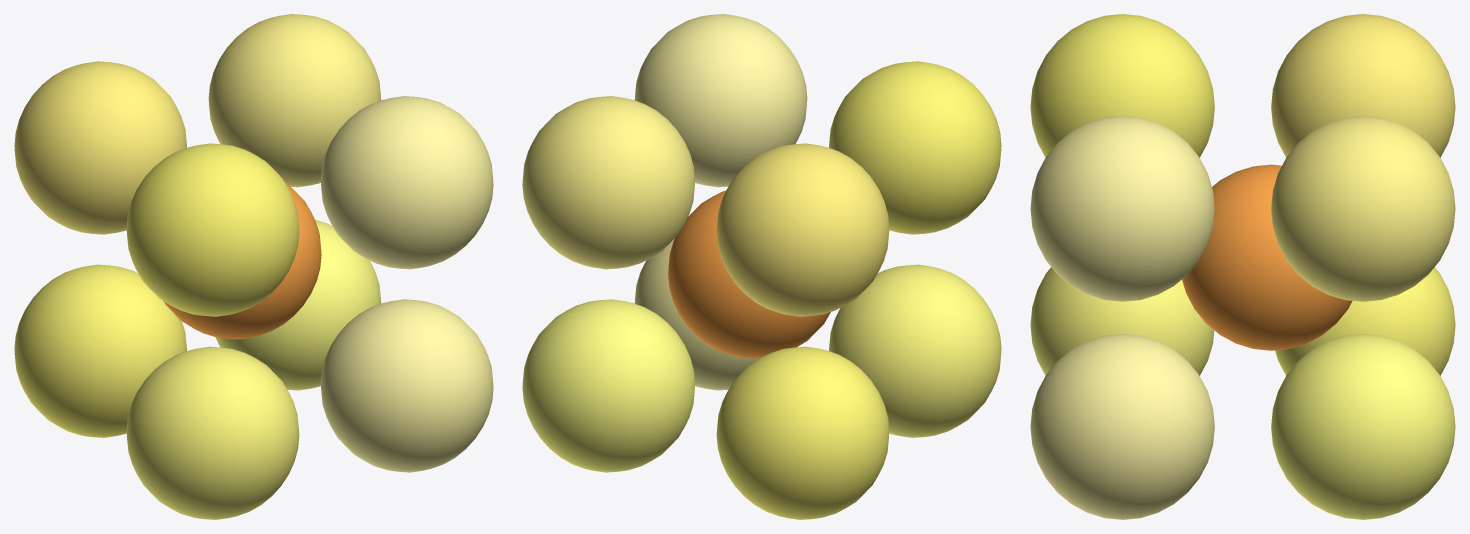
File: pan bcc.fbx
The picture shows the model from 3 angles, left to right: view 1: azimuth 30°, elevation 25°; view 2: azimuth 150°, elevation 25°; view 3: azimuth 270°, elevation 25°; orthographic projection. The views are drawn at different scales.
Parts seen in each view (by area): view 1: imagetostl_mesh8, imagetostl_mesh2, imagetostl_mesh1, imagetostl_mesh0, imagetostl_mesh3, imagetostl_mesh5, imagetostl_mesh4, imagetostl_mesh6, imagetostl_mesh7; view 2: imagetostl_mesh6, imagetostl_mesh5, imagetostl_mesh4, imagetostl_mesh3, imagetostl_mesh0, imagetostl_mesh2, imagetostl_mesh1, imagetostl_mesh7, imagetostl_mesh8; view 3: imagetostl_mesh1, imagetostl_mesh4, imagetostl_mesh6, imagetostl_mesh8, imagetostl_mesh0, imagetostl_mesh3, imagetostl_mesh7, imagetostl_mesh2, imagetostl_mesh5.
Boxes of the visible parts, bbox=[...] form: imagetostl_mesh8: bbox=[320, 299, 493, 472]; imagetostl_mesh2: bbox=[126, 346, 299, 519]; imagetostl_mesh1: bbox=[320, 96, 493, 269]; imagetostl_mesh0: bbox=[126, 143, 299, 316]; imagetostl_mesh3: bbox=[14, 61, 186, 234]; imagetostl_mesh5: bbox=[14, 264, 186, 437]; imagetostl_mesh4: bbox=[208, 14, 381, 187]; imagetostl_mesh6: bbox=[215, 219, 381, 390]; imagetostl_mesh7: bbox=[163, 182, 321, 339]; imagetostl_mesh6: bbox=[522, 299, 695, 472]; imagetostl_mesh5: bbox=[716, 346, 889, 519]; imagetostl_mesh4: bbox=[522, 96, 695, 269]; imagetostl_mesh3: bbox=[716, 143, 889, 316]; imagetostl_mesh0: bbox=[829, 61, 1001, 234]; imagetostl_mesh2: bbox=[829, 264, 1001, 437]; imagetostl_mesh1: bbox=[634, 14, 807, 187]; imagetostl_mesh7: bbox=[668, 190, 830, 358]; imagetostl_mesh8: bbox=[634, 238, 760, 390]; imagetostl_mesh1: bbox=[1030, 115, 1214, 301]; imagetostl_mesh4: bbox=[1271, 115, 1455, 301]; imagetostl_mesh6: bbox=[1271, 333, 1455, 519]; imagetostl_mesh8: bbox=[1030, 333, 1214, 519]; imagetostl_mesh0: bbox=[1030, 14, 1214, 157]; imagetostl_mesh3: bbox=[1271, 14, 1455, 157]; imagetostl_mesh7: bbox=[1182, 164, 1352, 350]; imagetostl_mesh2: bbox=[1030, 267, 1214, 375]; imagetostl_mesh5: bbox=[1275, 267, 1455, 375].
Size of the model in its own units: 580 by 580 by 578.
